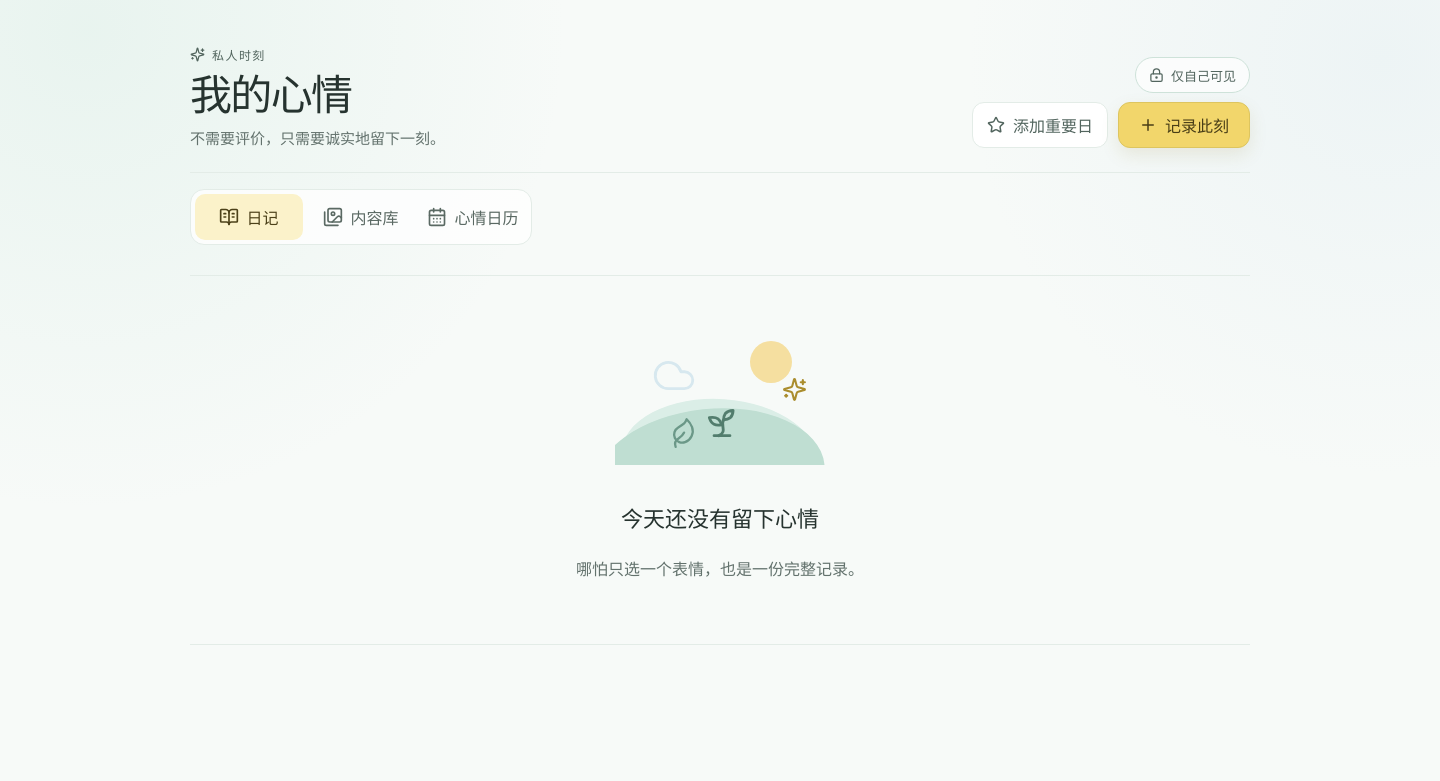
Test: EmotionModule › 以日记为首页并可切换内容库与心情日历
Expected: the heading "我的心情" is shown, [190,71,351,121]
Click the button "内容库" at (361, 217), box [307,194,415,240]
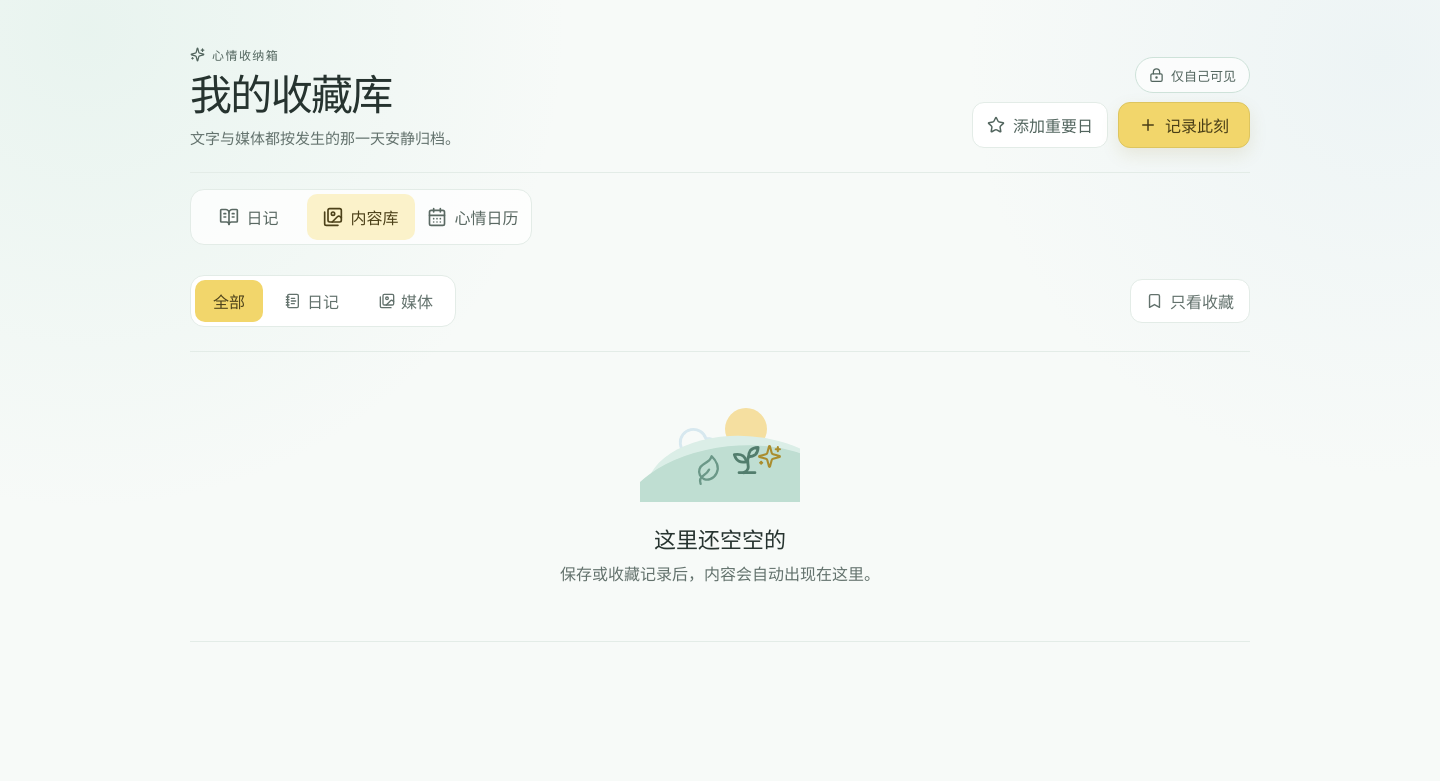
Now the heading "我的收藏库" is shown, box [190,71,392,121]
Click the button "心情日历" at (473, 217), box [419,194,527,240]
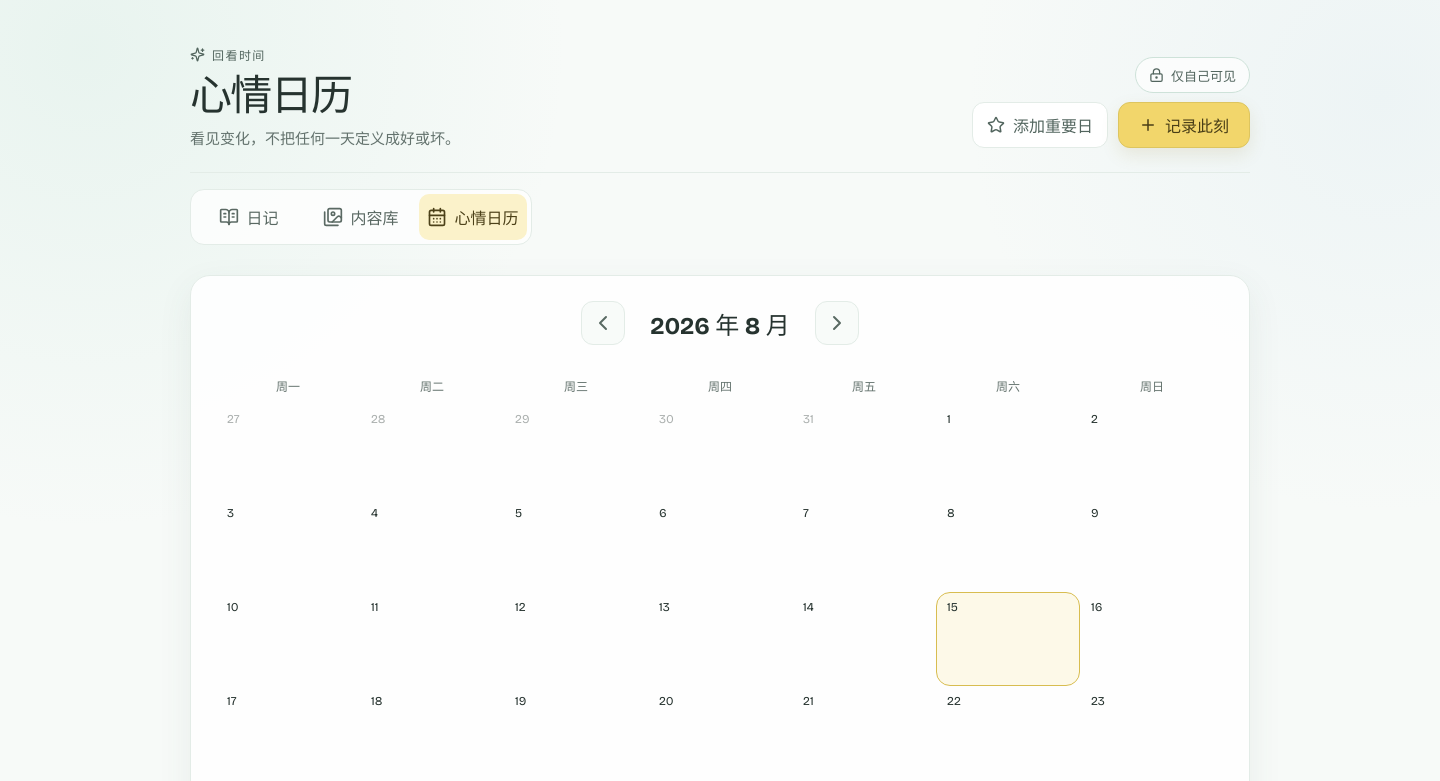
Now the heading "心情日历" is shown, box [190,71,351,121]
